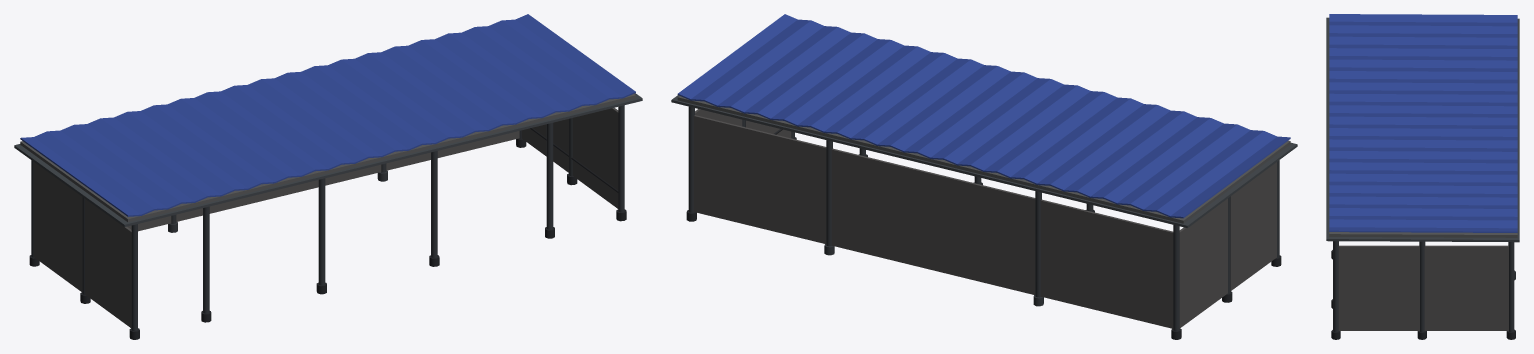
The model's file is BusGarage_1.fbx.
3 renders of one model, left to right at view 1: azimuth 30°, elevation 25°; view 2: azimuth 150°, elevation 25°; view 3: azimuth 270°, elevation 25°, orthographic. The views are drawn at different scales.
Visible parts, largest first — view 1: BusGarage_1; view 2: BusGarage_1; view 3: BusGarage_1.
Part boxes in pixels (x1,y1,x2,y2): BusGarage_1: (14,14,642,339); BusGarage_1: (671,14,1297,339); BusGarage_1: (1326,14,1519,339).
Size of the model in its own units: 2254 by 531 by 831.
